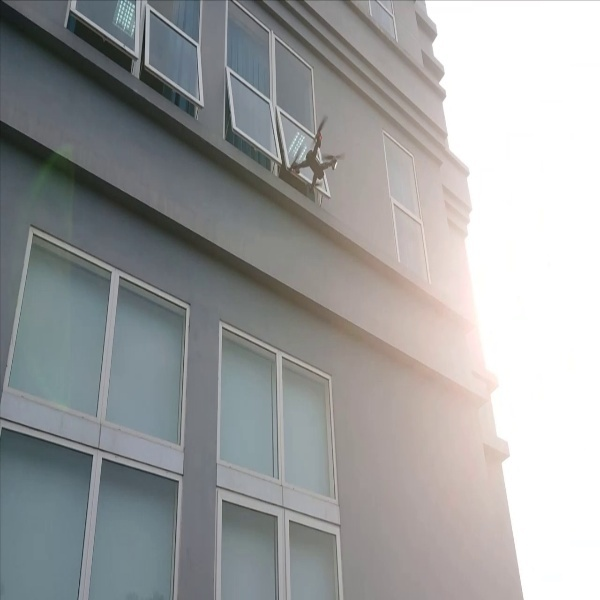drone: (267, 113, 351, 198)
